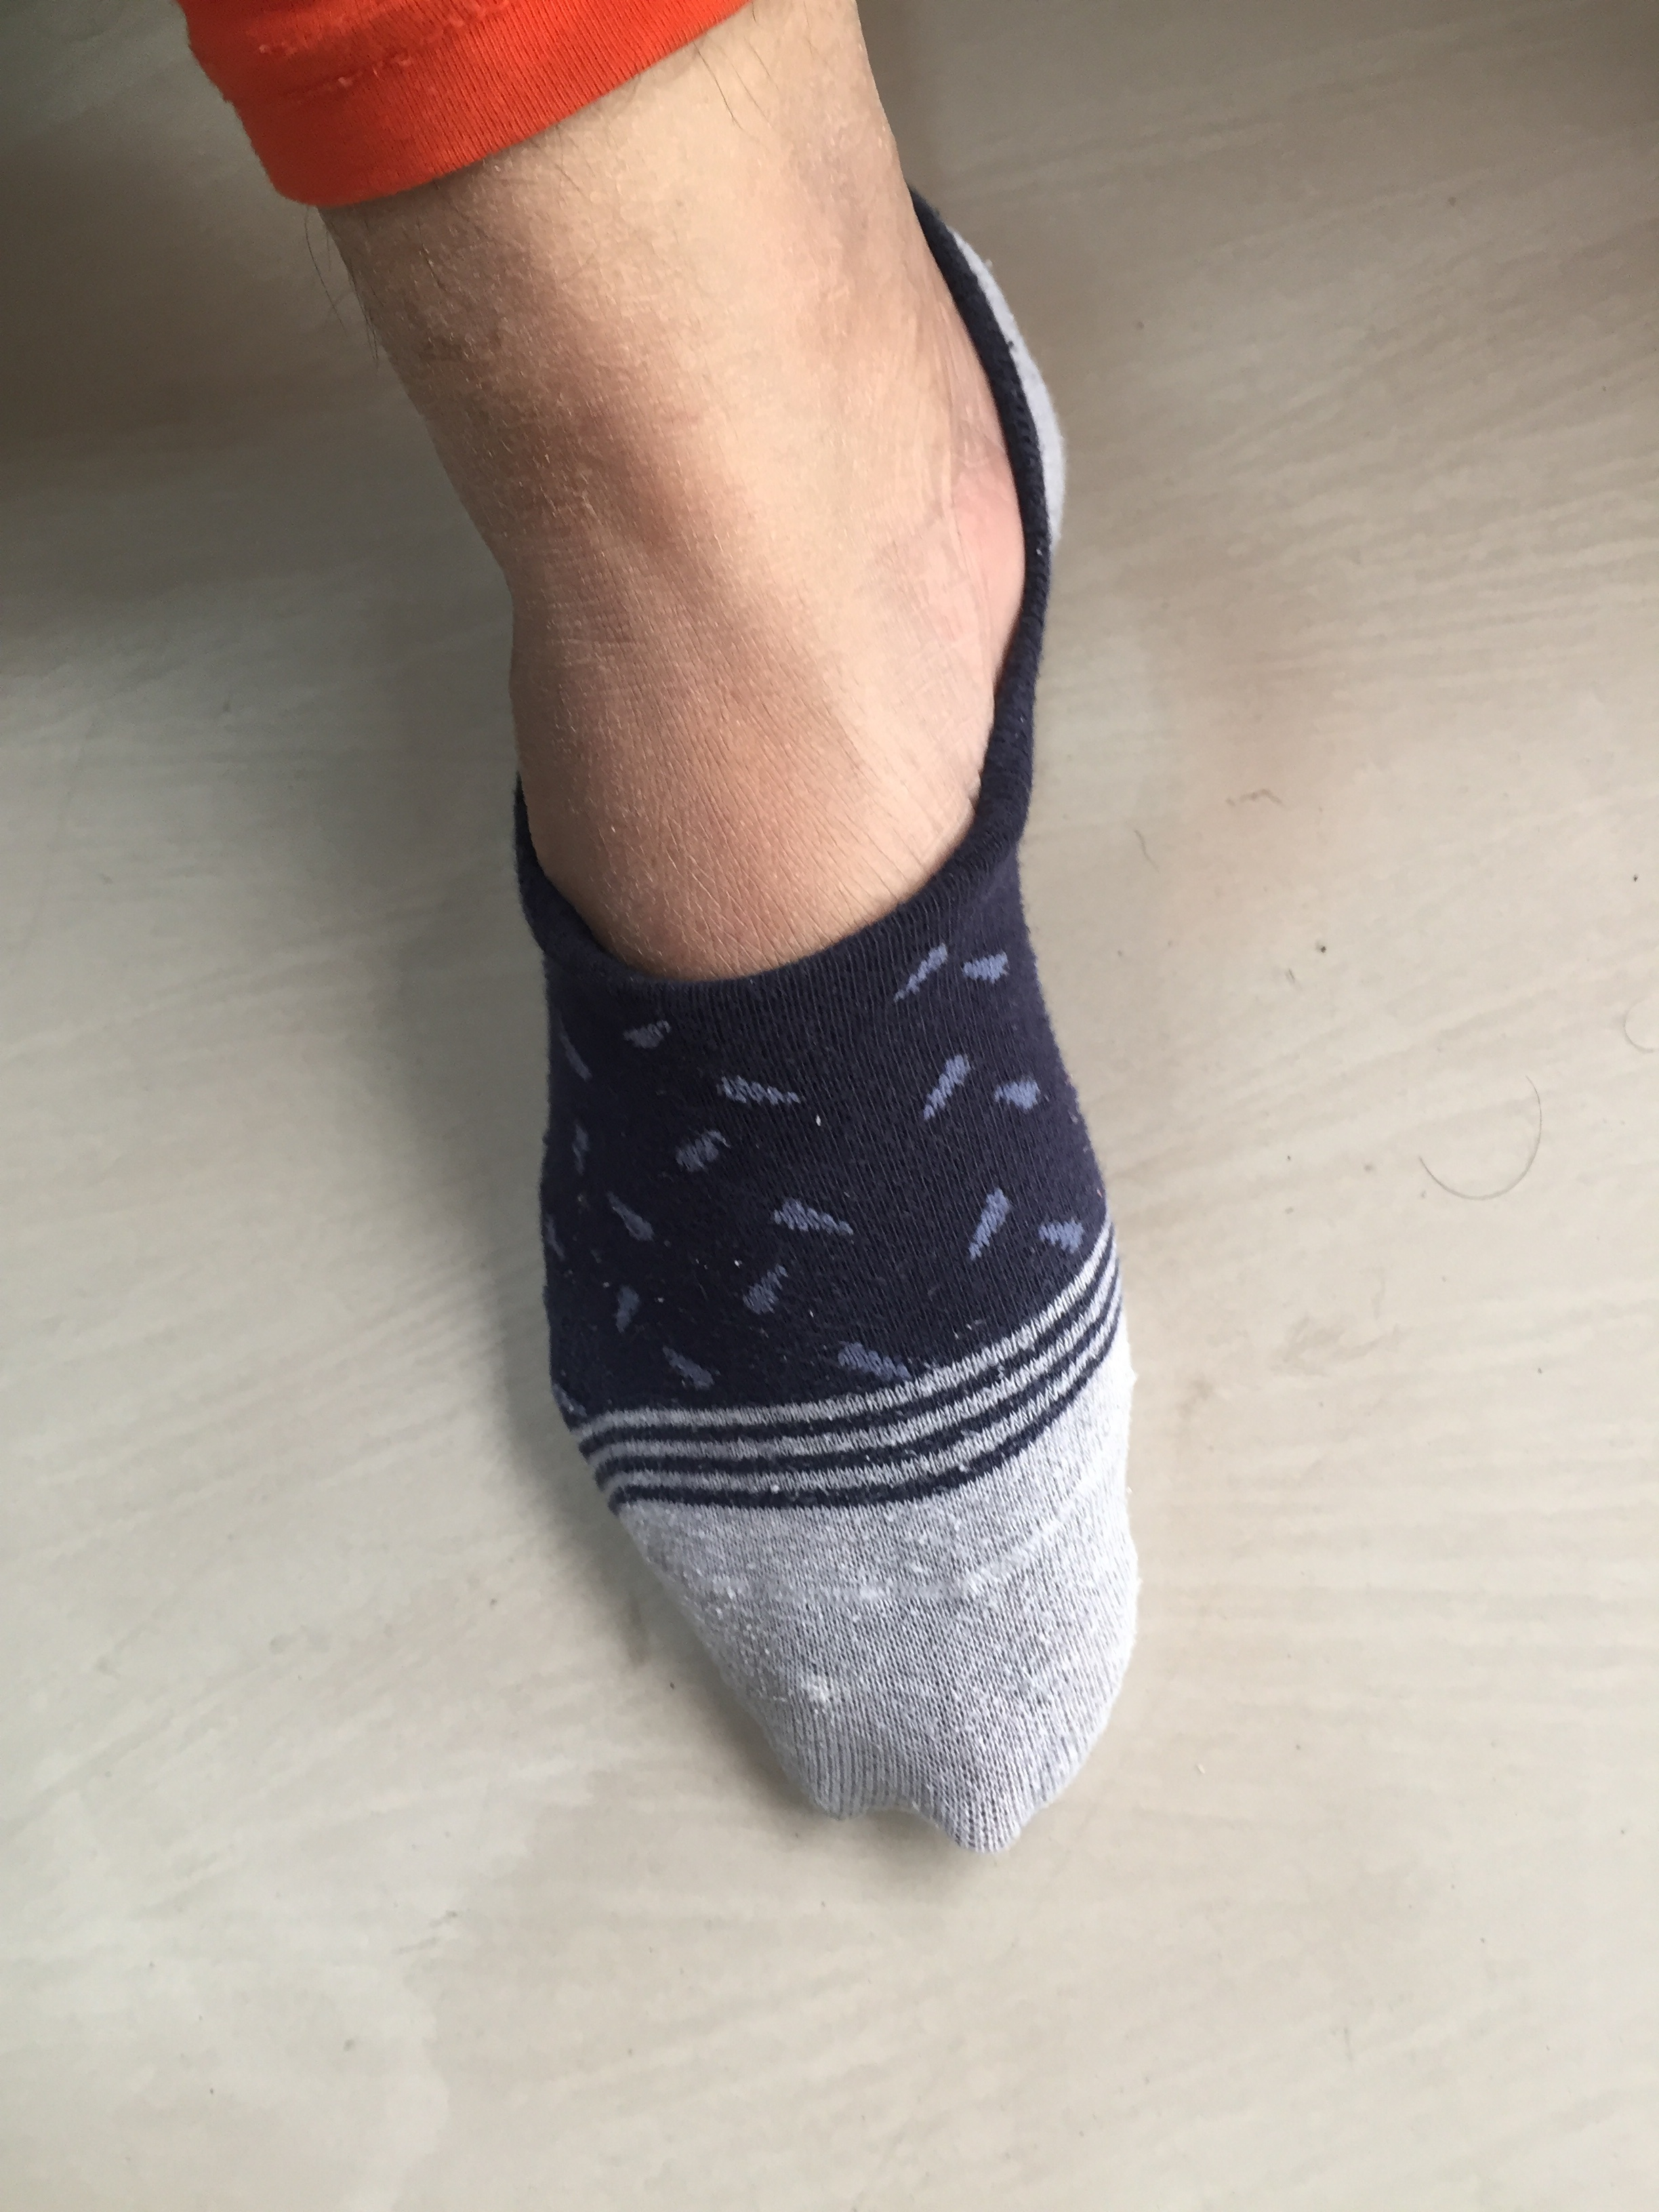feet: (164, 139, 1164, 1864)
